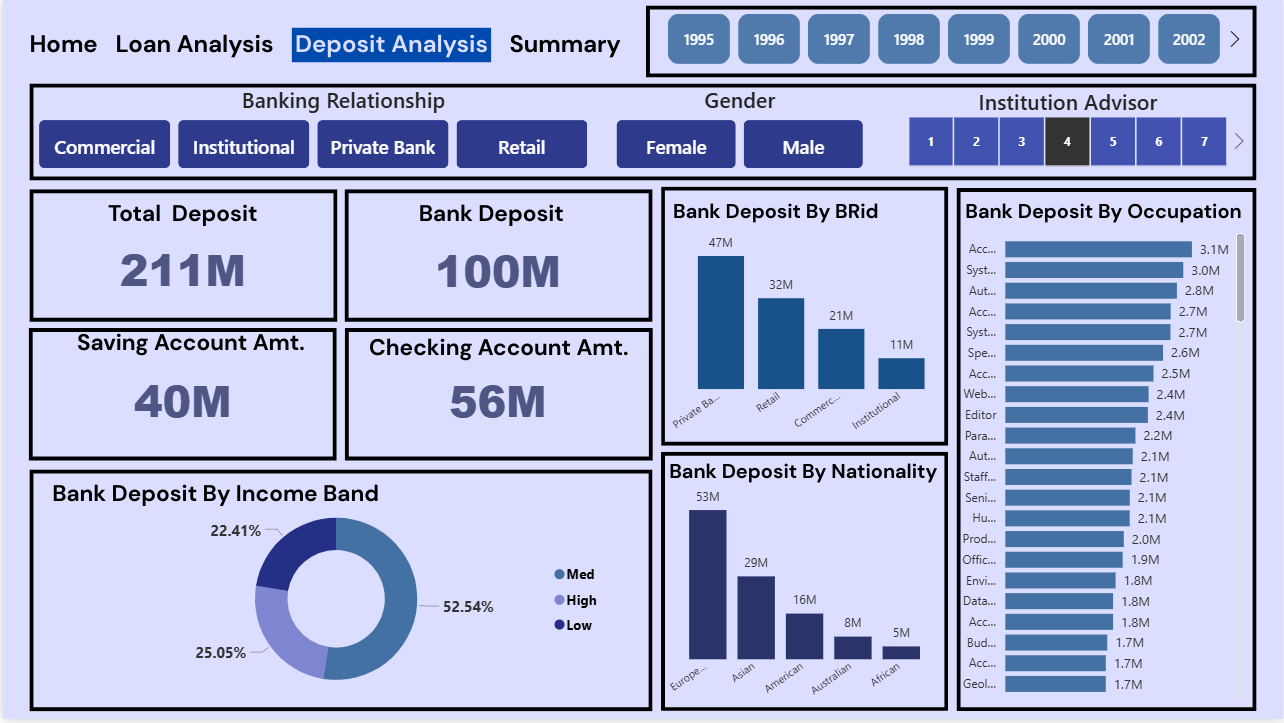

This screenshot's page, from the dashboard's own definition file:
{"tool":"powerbi","page":{"name":"Deposit Analysis","canvas":[1280,720],"ordinal":2},"visuals":[{"type":"advancedSlicerVisual","fields":{"Values":["customer.BRId"]},"box":[31.4,115.7,561.4,58.6],"z":0},{"type":"advancedSlicerVisual","fields":{"Values":["customer.GenderId"]},"box":[608.6,115.7,257.1,58.6],"z":1000},{"type":"slicer","fields":{"Values":["customer.IAId"]},"box":[880,111.4,367.1,62.9],"z":2000},{"type":"textbox","box":[234.3,81.4,240,47.1],"z":3000},{"type":"textbox","box":[665.7,81.4,141.4,47.1],"z":4000},{"type":"textbox","box":[930,82.9,270,47.1],"z":5000},{"type":"card","fields":{"Values":["customer.Total Deposit"]},"box":[81.4,228.6,197.1,81.4],"z":5001},{"type":"card","fields":{"Values":["Sum(customer.Bank_Loans)"]},"box":[395.7,230,197.1,81.4],"z":5002},{"type":"card","fields":{"Values":["Sum(customer.Saving_Accounts)"]},"box":[81.4,360,197.1,81.4],"z":5003},{"type":"card","fields":{"Values":["Sum(customer.Checking_Accounts)"]},"box":[395.7,360,197.1,81.4],"z":5004},{"type":"donutChart","fields":{"Category":["customer.Income_level"],"Y":["Sum(customer.Bank_Deposits)"]},"box":[111.4,490,497.1,220],"z":5005},{"type":"columnChart","fields":{"Category":["customer.BRId"],"Y":["Sum(customer.Bank_Deposits)"]},"box":[660,221.4,292.9,220],"z":5006},{"type":"columnChart","fields":{"Category":["customer.Nationality"],"Y":["Sum(customer.Bank_Deposits)"]},"box":[660,474.3,282.9,235.7],"z":5007},{"type":"clusteredBarChart","fields":{"Category":["customer.Occupation"],"Y":["Sum(customer.Bank_Deposits)"]},"box":[942.9,221.4,304.3,485.7],"z":5008},{"type":"advancedSlicerVisual","fields":{"Values":["customer.Joined_Bank.Variation.Date Hierarchy.Year"]},"box":[640,10,607.1,60],"z":5009},{"type":"actionButton","box":[24.3,22.9,87.1,31.4],"z":5010}]}

Visuals, with their boxes in screenshot pixels (x1, y1, x2, y2), scaled from the page's 1280x720 canvas onto the 1284x723 screenshot:
advancedSlicerVisual - customer.BRId: (left=31, top=116, right=595, bottom=175)
advancedSlicerVisual - customer.GenderId: (left=611, top=116, right=868, bottom=175)
slicer - customer.IAId: (left=883, top=112, right=1251, bottom=175)
textbox: (left=235, top=82, right=476, bottom=129)
textbox: (left=668, top=82, right=810, bottom=129)
textbox: (left=933, top=83, right=1204, bottom=131)
card - customer.Total Deposit: (left=82, top=230, right=279, bottom=311)
card - Sum(customer.Bank_Loans): (left=397, top=231, right=595, bottom=313)
card - Sum(customer.Saving_Accounts): (left=82, top=362, right=279, bottom=443)
card - Sum(customer.Checking_Accounts): (left=397, top=362, right=595, bottom=443)
donutChart - customer.Income_level x Sum(customer.Bank_Deposits): (left=112, top=492, right=610, bottom=713)
columnChart - customer.BRId x Sum(customer.Bank_Deposits): (left=662, top=222, right=956, bottom=443)
columnChart - customer.Nationality x Sum(customer.Bank_Deposits): (left=662, top=476, right=946, bottom=713)
clusteredBarChart - customer.Occupation x Sum(customer.Bank_Deposits): (left=946, top=222, right=1251, bottom=710)
advancedSlicerVisual - customer.Joined_Bank.Variation.Date Hierarchy.Year: (left=642, top=10, right=1251, bottom=70)
actionButton: (left=24, top=23, right=112, bottom=55)
